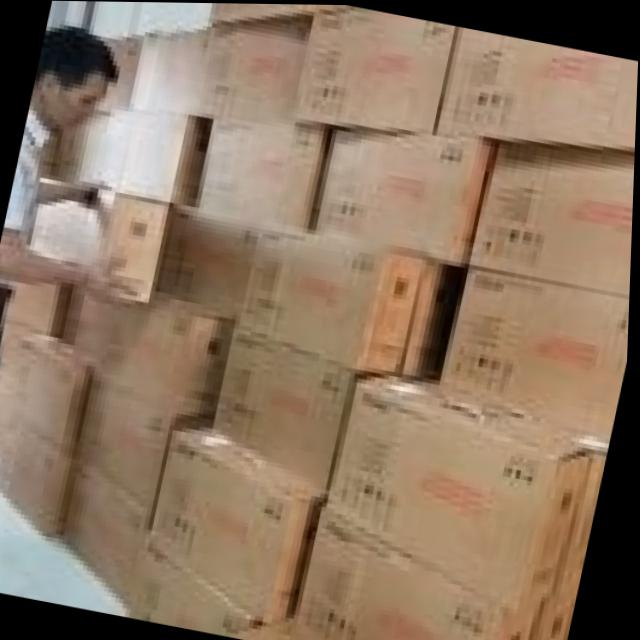box: (331, 377, 599, 612), (150, 424, 327, 625), (298, 502, 544, 640), (443, 271, 632, 446), (237, 222, 425, 372), (317, 123, 496, 266), (437, 25, 639, 151), (470, 141, 636, 293), (216, 323, 354, 493), (73, 291, 233, 416), (296, 7, 455, 129), (62, 454, 156, 608), (200, 118, 329, 228), (133, 537, 262, 636), (193, 14, 309, 120), (10, 335, 94, 456), (0, 411, 76, 541), (116, 112, 210, 206), (104, 195, 170, 302), (125, 30, 206, 113)
